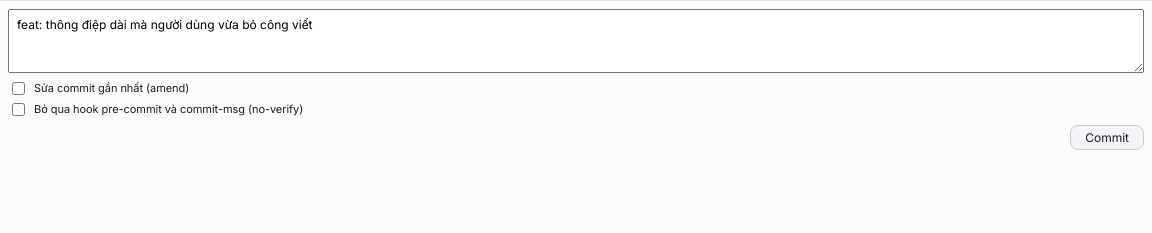
Test: 🔴 hook từ chối (M5, M6) › 🔴 hook từ chối → textarea VẪN GIỮ thông điệp người dùng vừa gõ
Click the button with test id "commit-button": (1107, 138) [1070,125,1144,150]
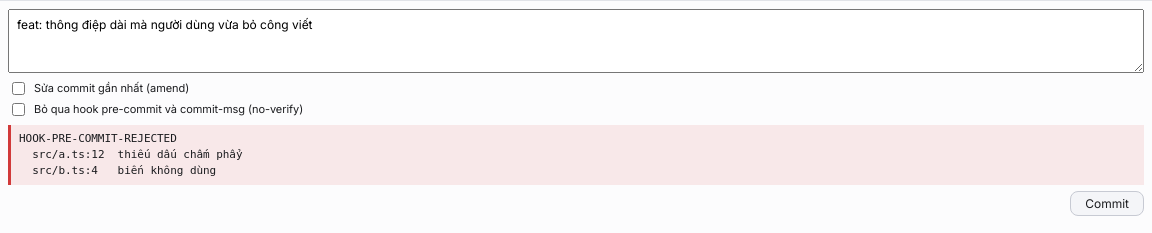
Check: the text box with test id "commit-message" holds "feat: thông điệp dài mà người dùng vừa bỏ công viết", box [8,9,1144,73]
Check: the message with test id "commit-hook-error" is shown, box [8,125,1144,185]
